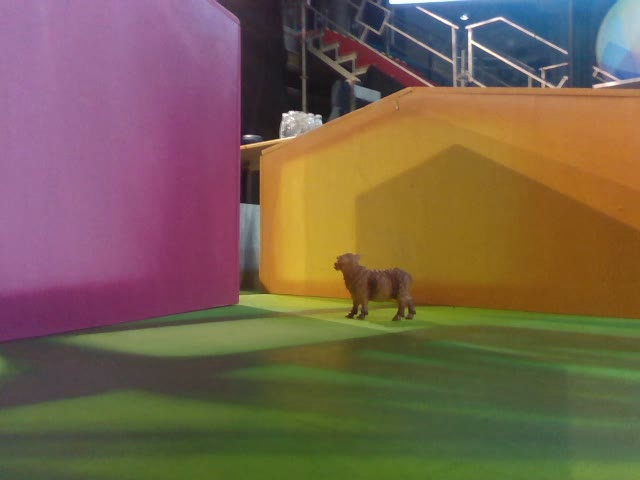toy: (334, 252, 419, 322)
